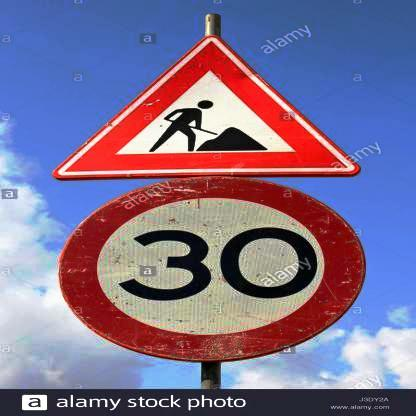Speed Limit -30-: (54, 174, 368, 362)
